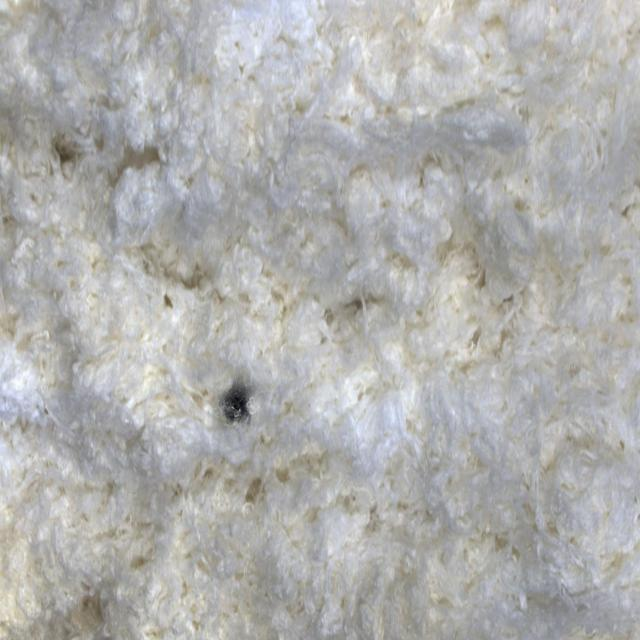dust: (208, 354, 272, 456)
